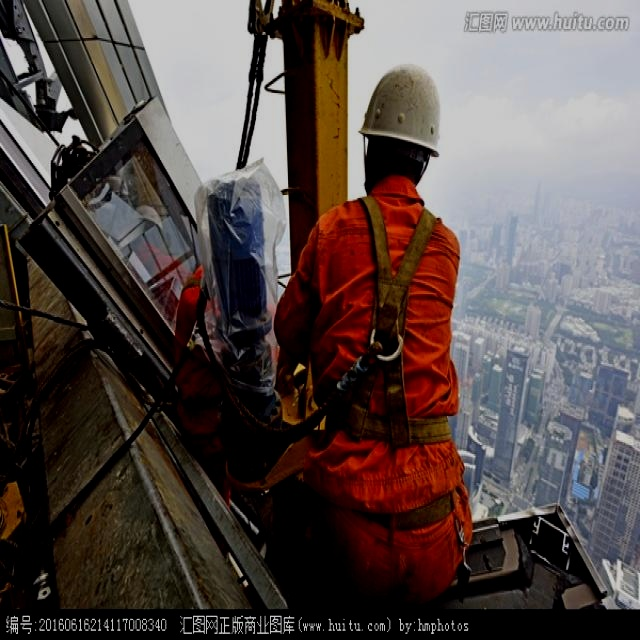Con_Casco: (365, 65, 441, 190)
